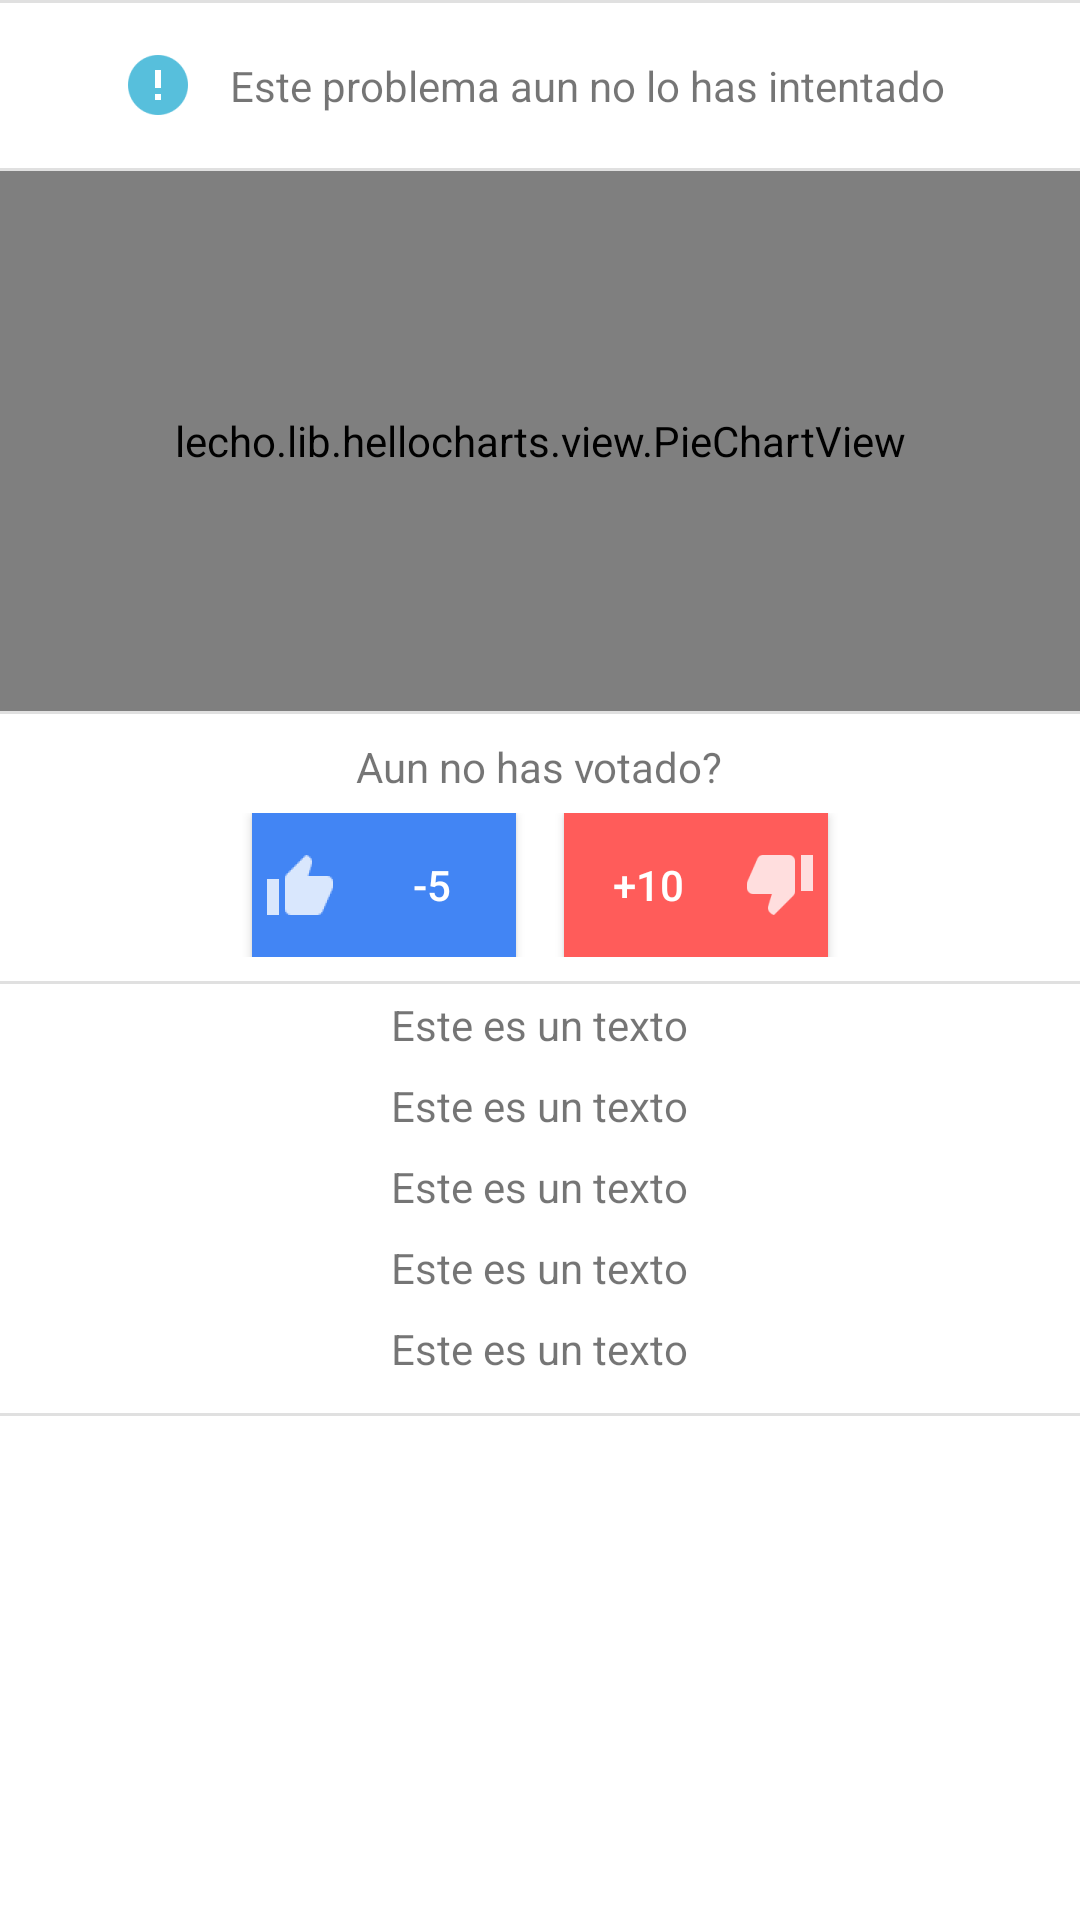

Icons on this 1080px×1920px Android screen, each with the point to tap as [x,y]:
problem state not tried: [158,85]
